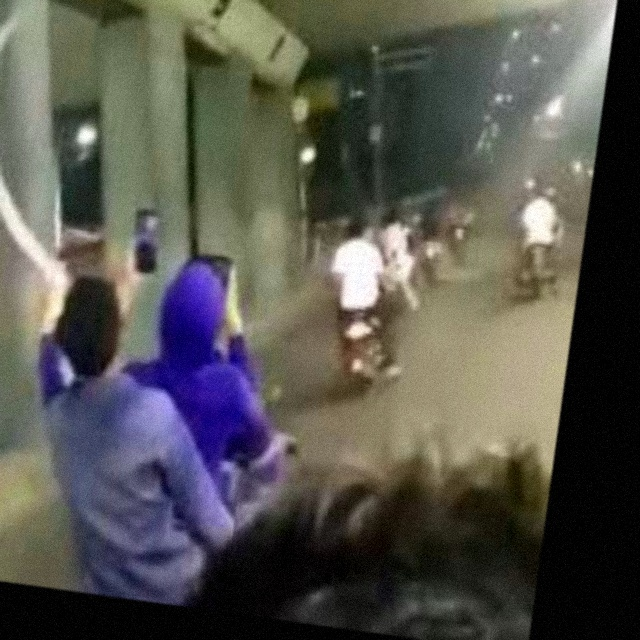Sharp-Object: (0, 0, 102, 355)
